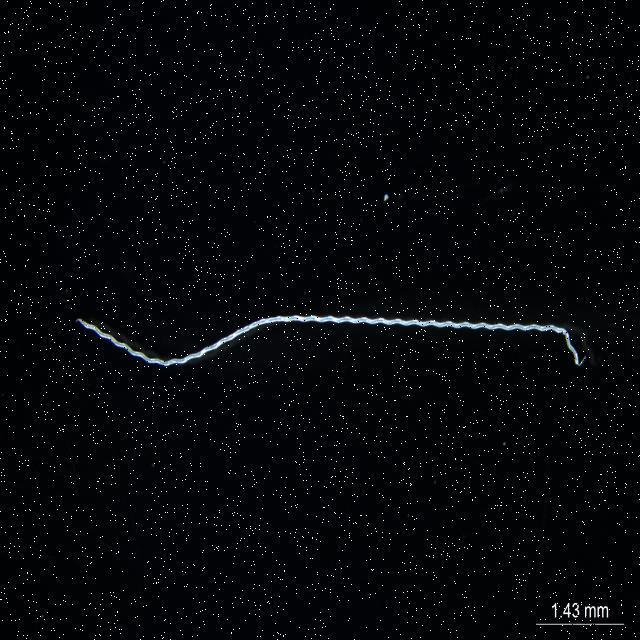Fibre: (76, 310, 588, 374)
